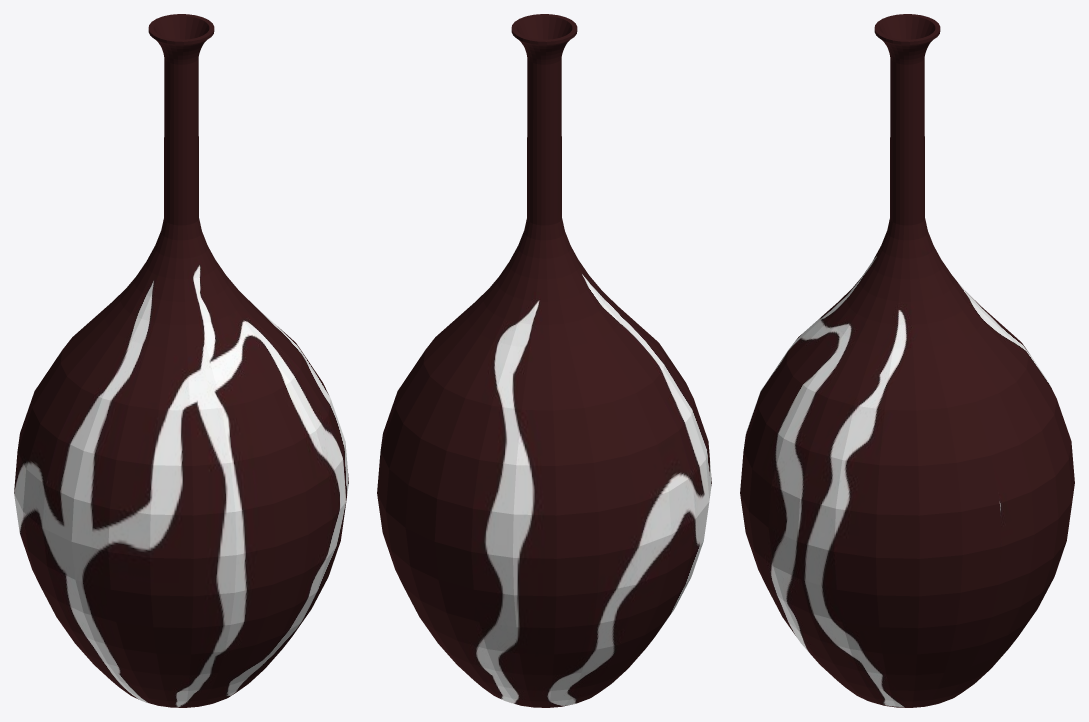
File: vase3.obj
3 renders of one model, left to right at view 1: azimuth 30°, elevation 25°; view 2: azimuth 150°, elevation 25°; view 3: azimuth 270°, elevation 25°, orthographic.
Parts seen in each view (by area): view 1: vase2_Mesh.002; view 2: vase2_Mesh.002; view 3: vase2_Mesh.002.
Boxes of the visible parts, bbox=[...] form: vase2_Mesh.002: bbox=[14, 14, 348, 707]; vase2_Mesh.002: bbox=[377, 14, 711, 707]; vase2_Mesh.002: bbox=[740, 14, 1074, 707].
Bounding box in the file's own units: 2.35 × 5.09 × 2.35.
1 material, 1 textured.
